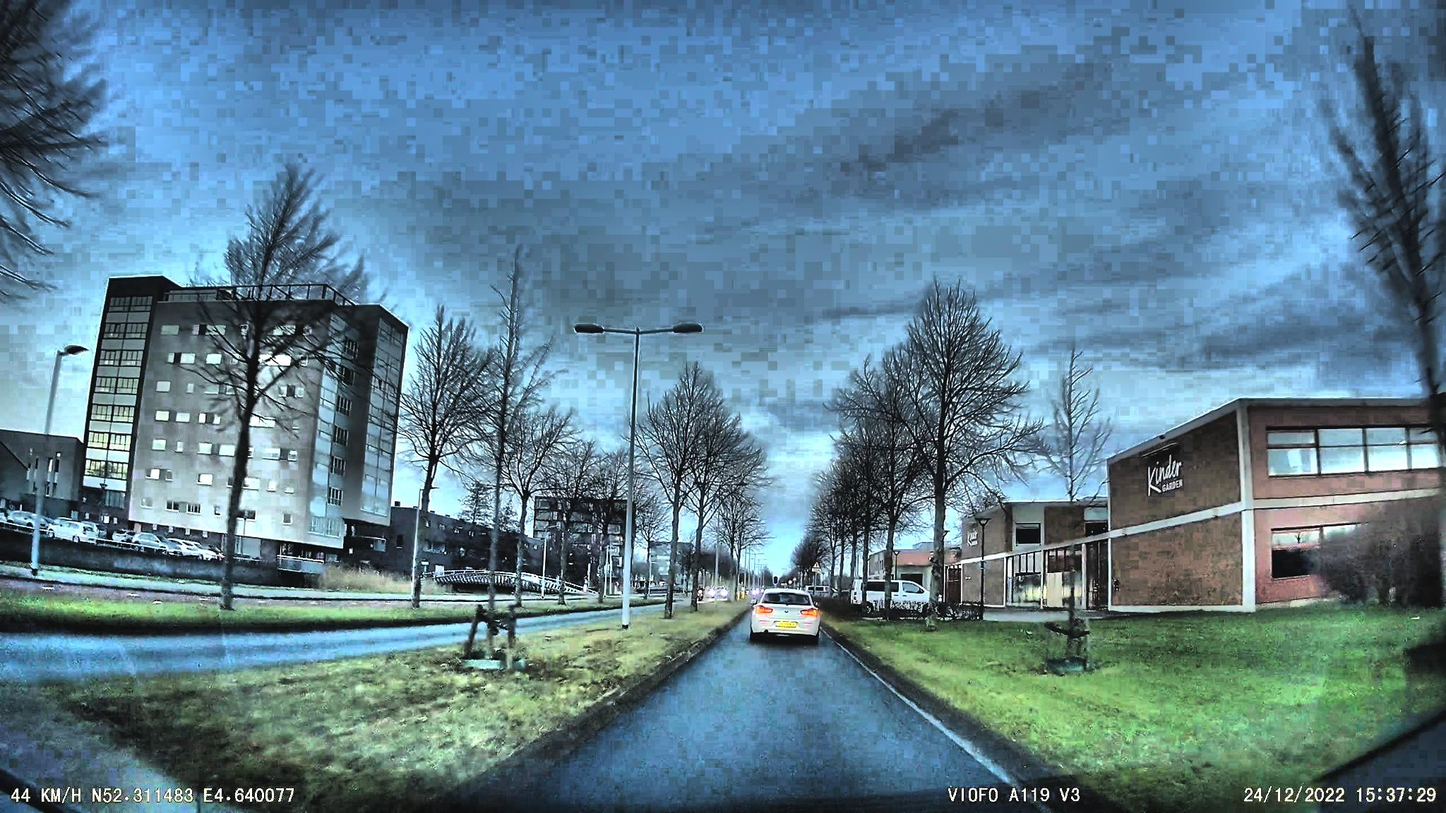Roads: (419, 613, 1127, 813)
